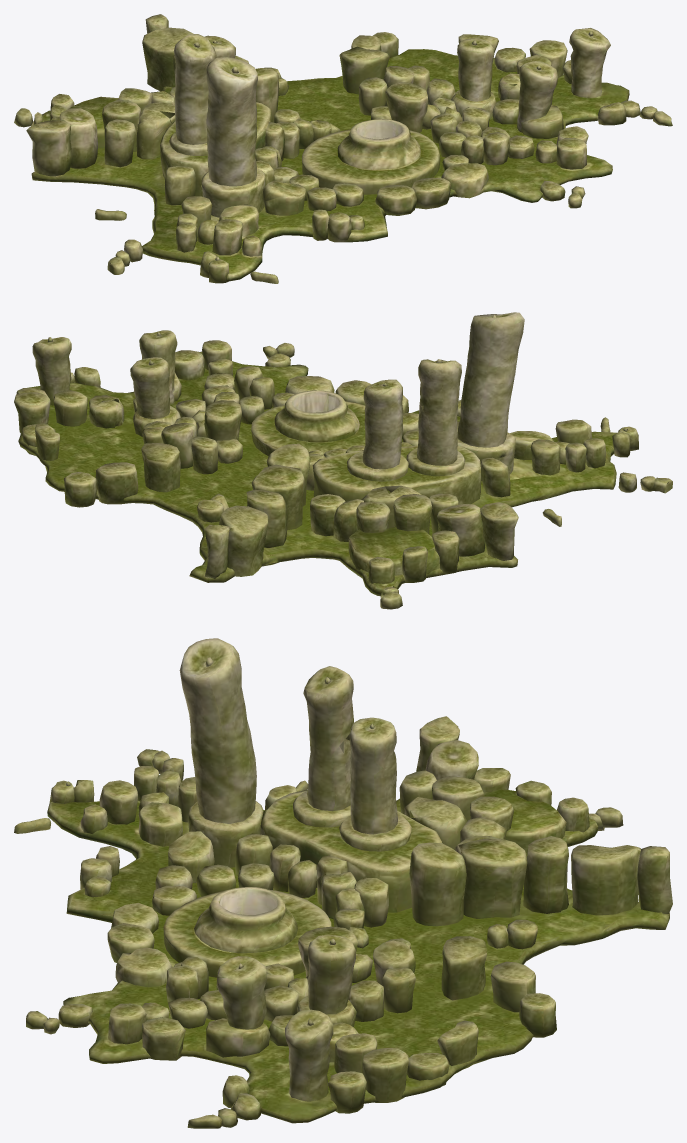
The model's file is site_ruins.glb.
The picture shows the model from 3 angles, top to bottom: view 1: azimuth 30°, elevation 25°; view 2: azimuth 150°, elevation 25°; view 3: azimuth 270°, elevation 25°; orthographic projection. The views are drawn at different scales.
Size of the model in its own units: 1 by 0.2727 by 0.7722.
1 material, 1 textured.
